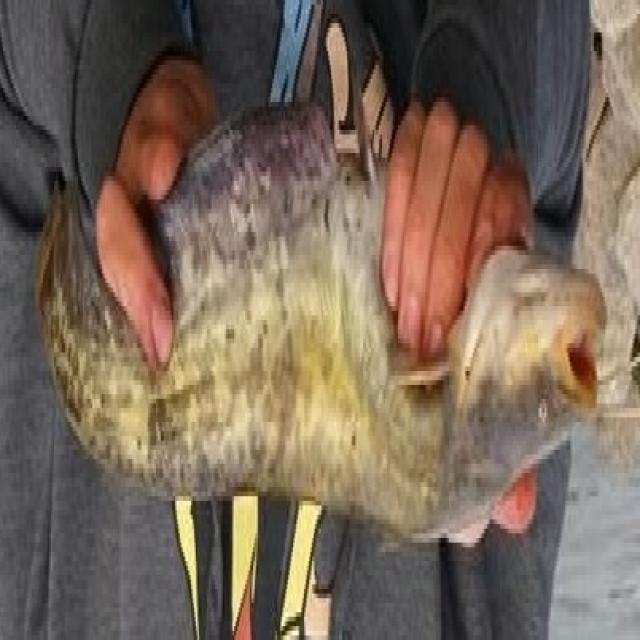Catfish: (46, 136, 616, 584)
